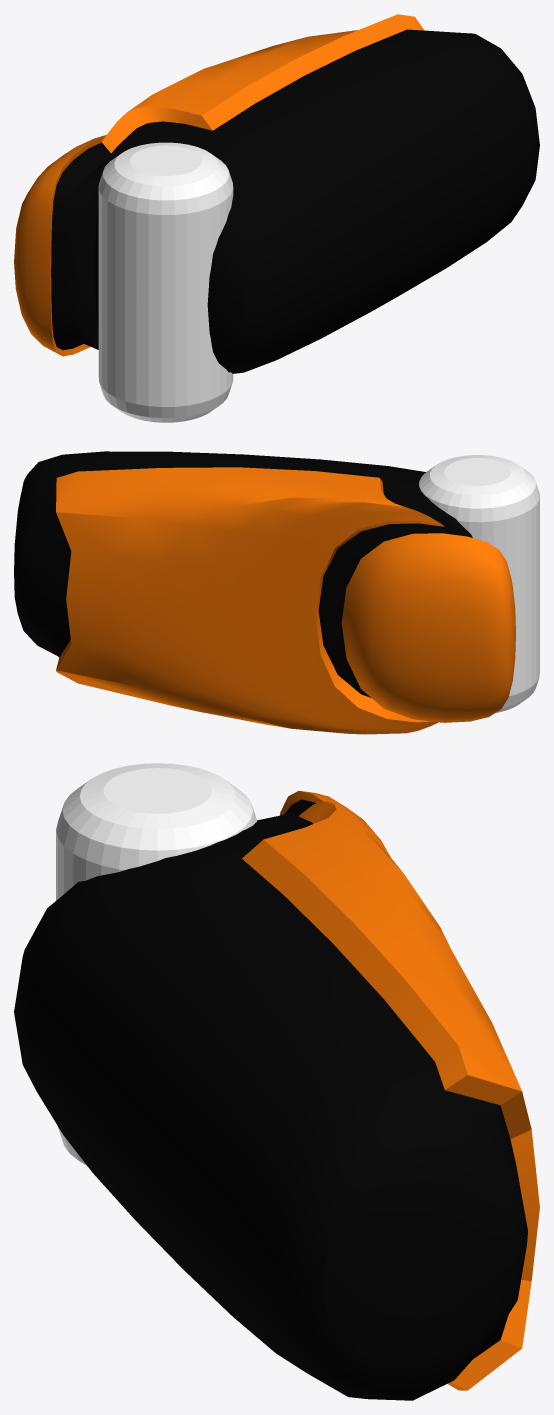
The model's file is new_simHand_id52.fbx.
The picture shows the model from 3 angles, top to bottom: view 1: azimuth 30°, elevation 25°; view 2: azimuth 150°, elevation 25°; view 3: azimuth 270°, elevation 25°; orthographic projection. The views are drawn at different scales.
Parts seen in each view (by area): view 1: Cube.014, Cylinder.008; view 2: Cube.014, Cylinder.008; view 3: Cube.014, Cylinder.008.
Boxes of the visible parts, box(x1,y1,x2,y2) form: Cube.014: box(14, 14, 539, 373); Cylinder.008: box(98, 142, 233, 422); Cube.014: box(14, 451, 515, 734); Cylinder.008: box(419, 455, 539, 712); Cube.014: box(14, 791, 539, 1400); Cylinder.008: box(56, 763, 256, 1167).
Size of the model in its own units: 78.87 by 37.21 by 45.94.
